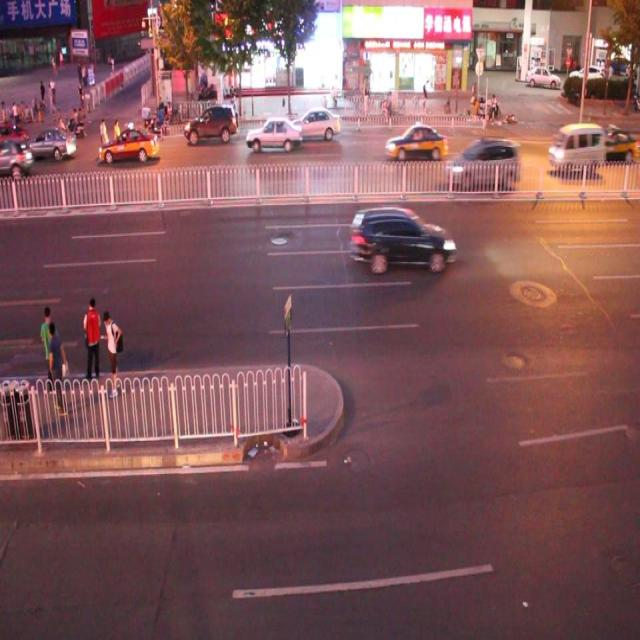car: (350, 204, 452, 272), (448, 136, 516, 191), (386, 123, 448, 161), (98, 126, 159, 164), (183, 102, 237, 142), (594, 121, 640, 166), (246, 115, 301, 150), (288, 107, 340, 142), (25, 128, 77, 160), (1, 135, 34, 177), (1, 120, 30, 150)
truck: (549, 122, 602, 174)
